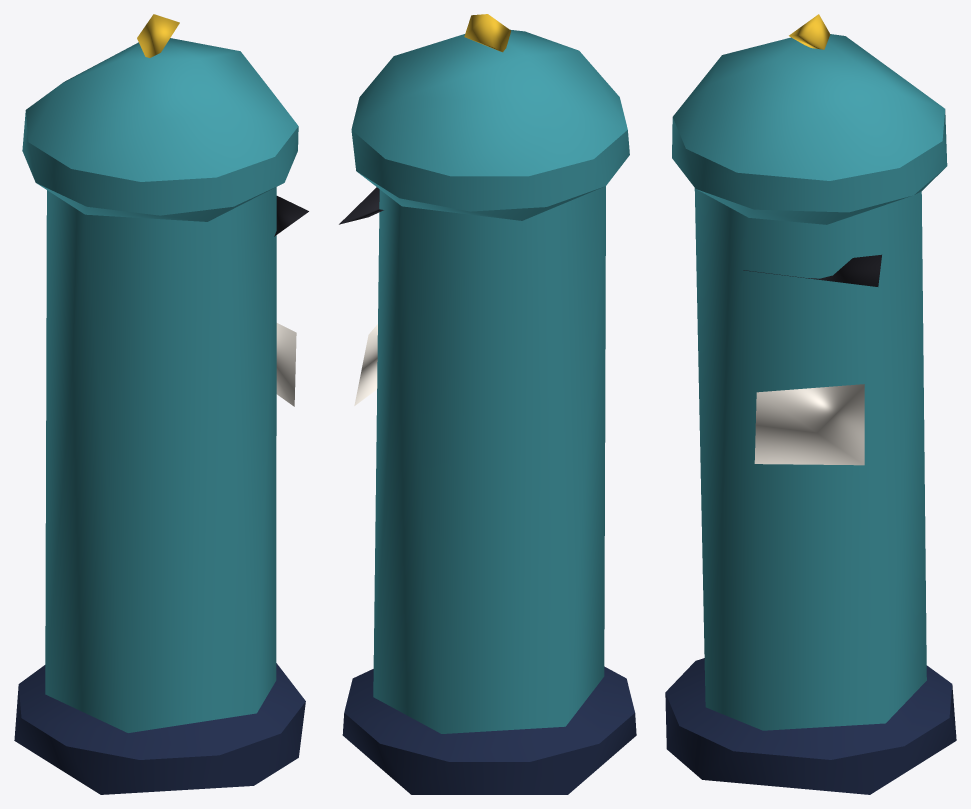
The model's file is mailbox.glb.
3 renders of one model, left to right at view 1: azimuth 30°, elevation 25°; view 2: azimuth 150°, elevation 25°; view 3: azimuth 270°, elevation 25°, orthographic.
Parts seen in each view (by area): view 1: mailbox; view 2: mailbox; view 3: mailbox.
Boxes of the visible parts, x1,y1,x2,y2 form: mailbox: (14, 14, 308, 794); mailbox: (339, 14, 636, 794); mailbox: (665, 14, 956, 794).
Bounding box in the file's own units: 0.3937 × 1.09 × 0.3988.
1 material, 1 textured.
